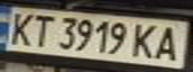1: (90, 18, 112, 54)
3: (51, 15, 78, 51)
9: (106, 19, 133, 56), (72, 16, 93, 53)
A: (151, 24, 187, 62)
K: (127, 20, 163, 61), (3, 9, 39, 46)
T: (24, 12, 57, 48)
